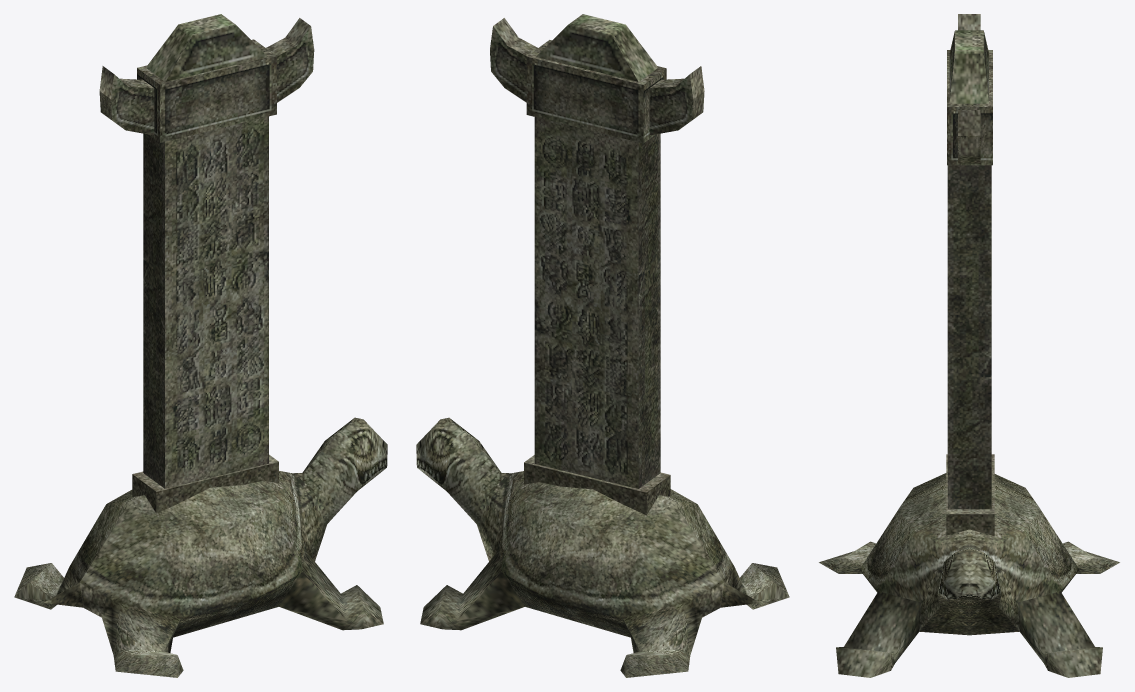
Rendered from ob-12-03gate04.fbx.
3 views of the same model, side by side, from view 1: azimuth 30°, elevation 25°; view 2: azimuth 150°, elevation 25°; view 3: azimuth 270°, elevation 25° (orthographic).
Parts seen in each view (by area): view 1: Sphere01; view 2: Sphere01; view 3: Sphere01.
Boxes of the visible parts, x1,y1,x2,y2 form: Sphere01: (14, 14, 387, 677); Sphere01: (416, 14, 789, 677); Sphere01: (819, 14, 1119, 677).
Size of the model in its own units: 4.72 by 7.59 by 3.59.
